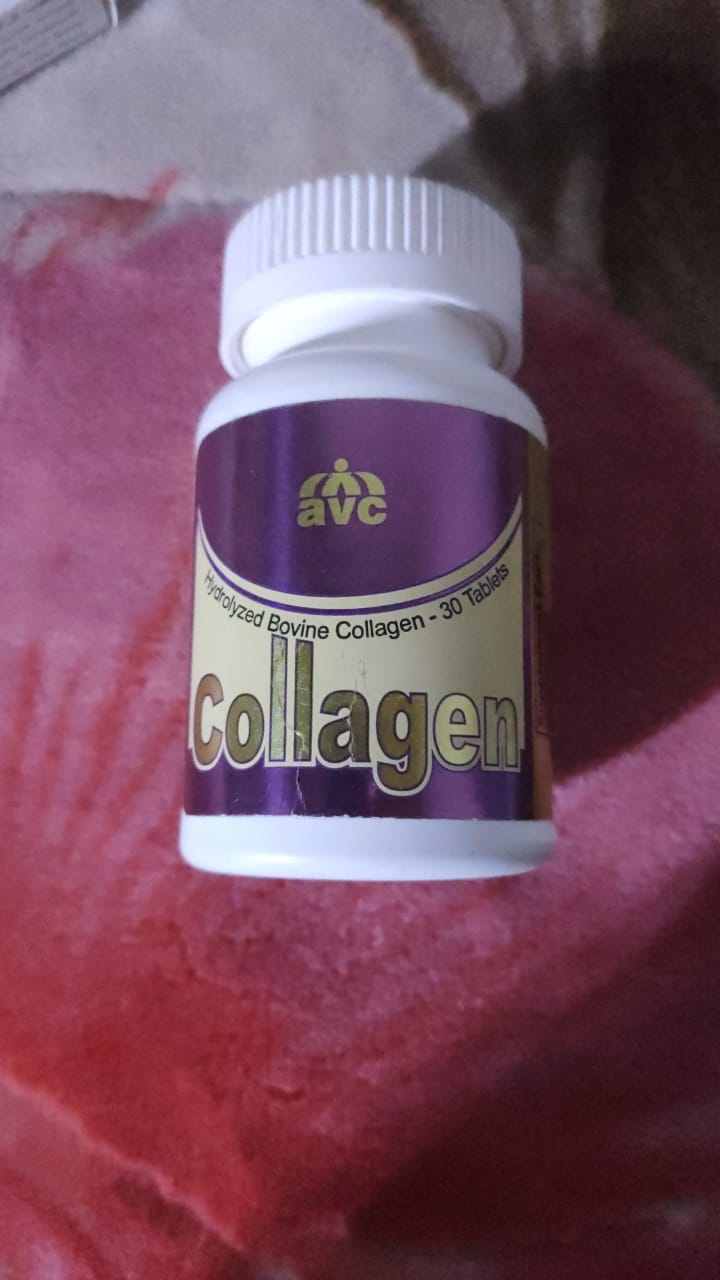Medicine: (170, 167, 567, 893)
